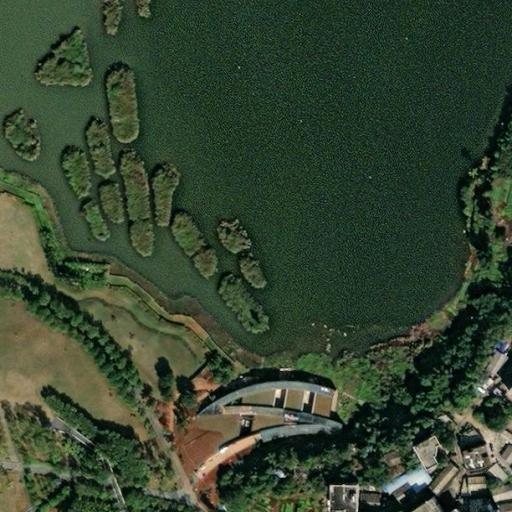building: (187, 359, 224, 396), (405, 413, 442, 442), (420, 463, 451, 496), (412, 436, 439, 472), (376, 442, 406, 470), (395, 466, 422, 494), (461, 446, 489, 472), (334, 489, 362, 512), (383, 482, 407, 505), (480, 422, 503, 441), (475, 466, 499, 484), (490, 442, 510, 463), (484, 355, 503, 376), (377, 477, 399, 495), (482, 486, 505, 501), (457, 474, 477, 490), (459, 497, 480, 512), (415, 501, 438, 512), (450, 488, 477, 497), (361, 490, 372, 512), (498, 433, 512, 450), (501, 455, 512, 476), (501, 414, 512, 433), (375, 499, 389, 512), (456, 468, 475, 476), (492, 502, 507, 512), (449, 497, 458, 510), (504, 486, 512, 498), (485, 387, 495, 396), (509, 500, 512, 512), (373, 508, 379, 512)
